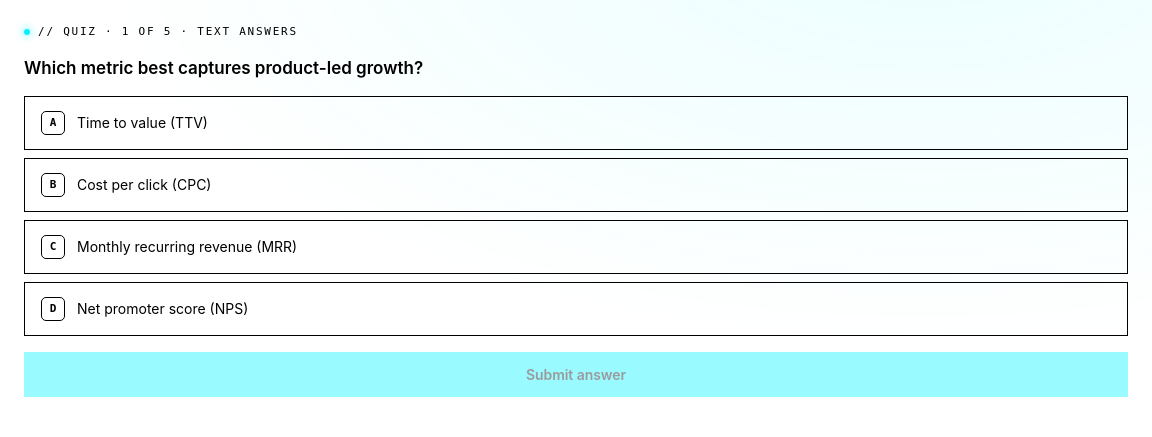
QuizExperience › Submit is disabled until a choice is selected
Expected: the button "Submit answer" is disabled, [24,352,1128,397]
Click the button "A Time to value (TTV)" at (142, 122), box [24,96,1128,150]
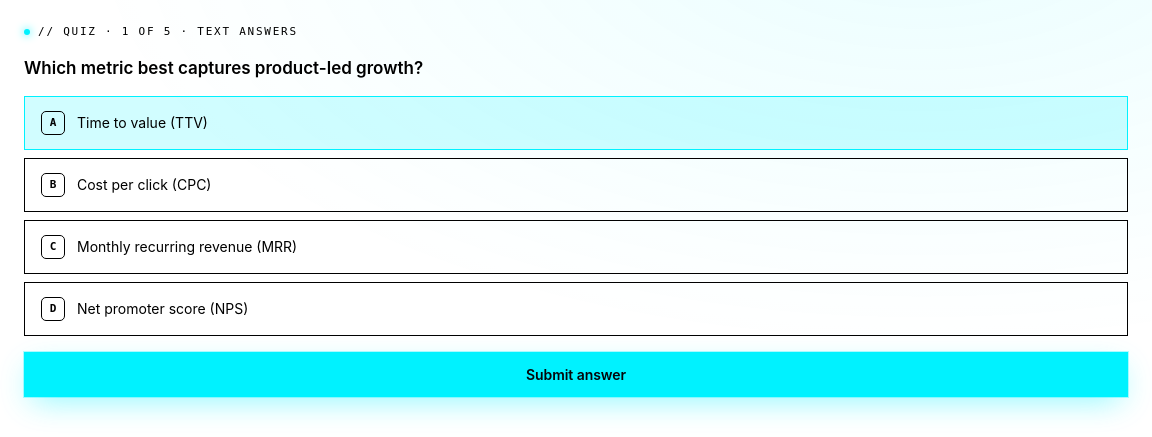
Now the button "Submit answer" is enabled, box [24,352,1128,397]
